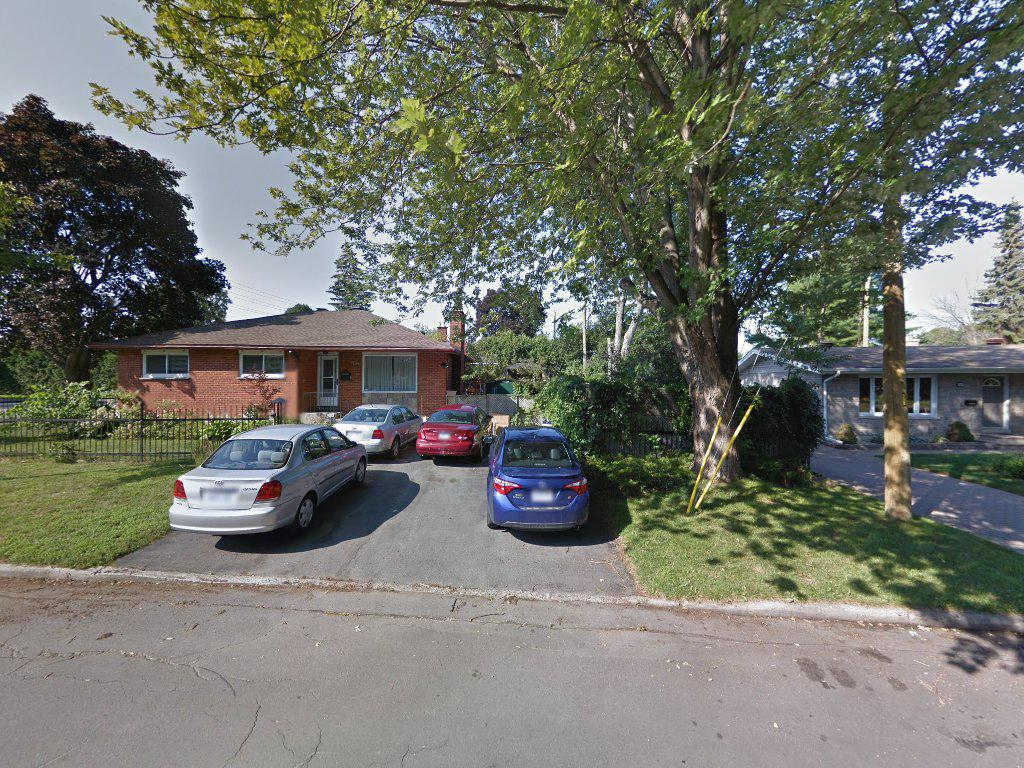trunk: (672, 215, 748, 502)
